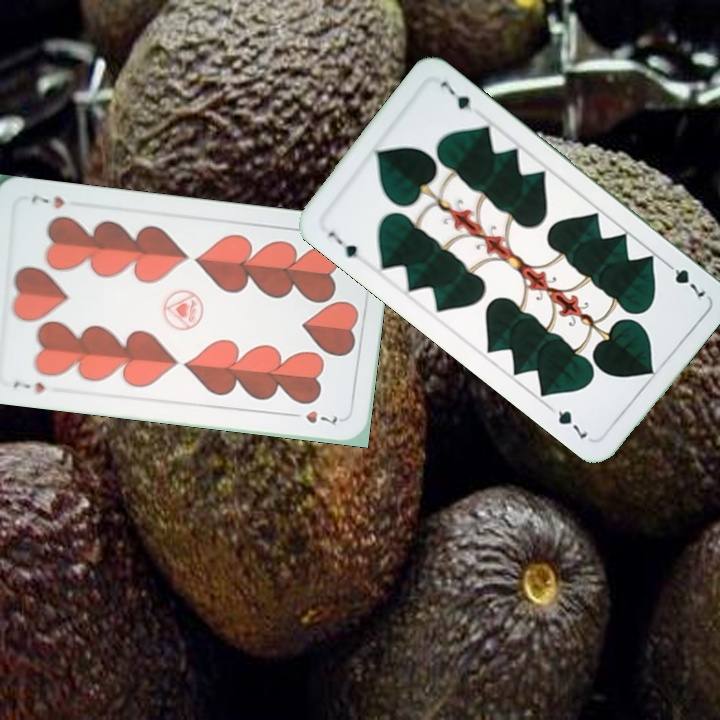G7: (659, 257, 709, 302), (323, 227, 361, 261)
H7: (9, 377, 48, 396)
